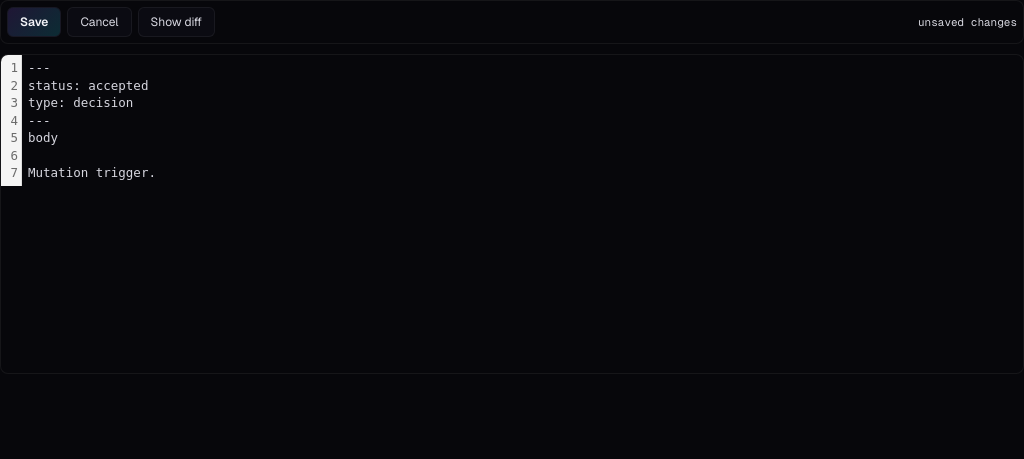
SourceTab › shows per-field frontmatter error surface when save returns 422
The width and height of the screenshot is (1024, 459).
Click the button with test id "kb-editor-save" at (34, 22), box [7, 7, 62, 37]
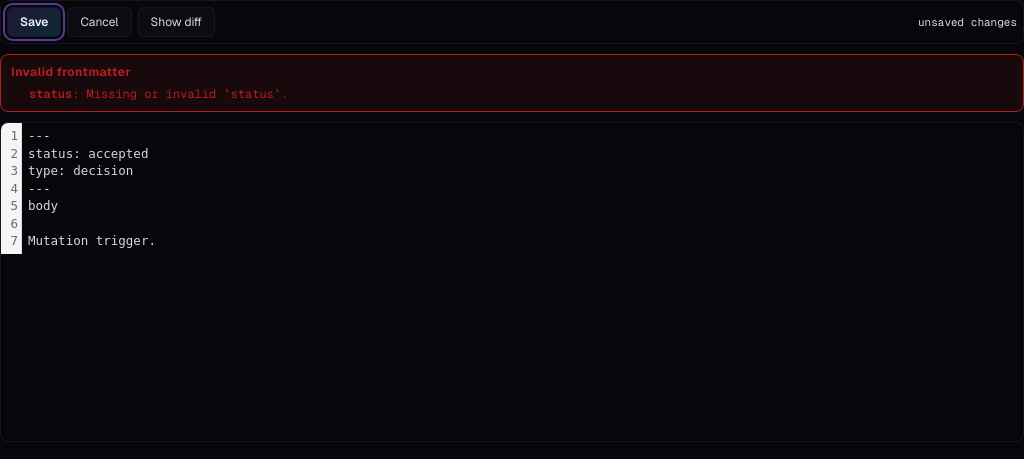
Expected: the element with test id "kb-editor-error-frontmatter" is shown, [0, 54, 1023, 112]
Expected: the element with test id "kb-editor-error-frontmatter" shows "status", [29, 86, 72, 102]
